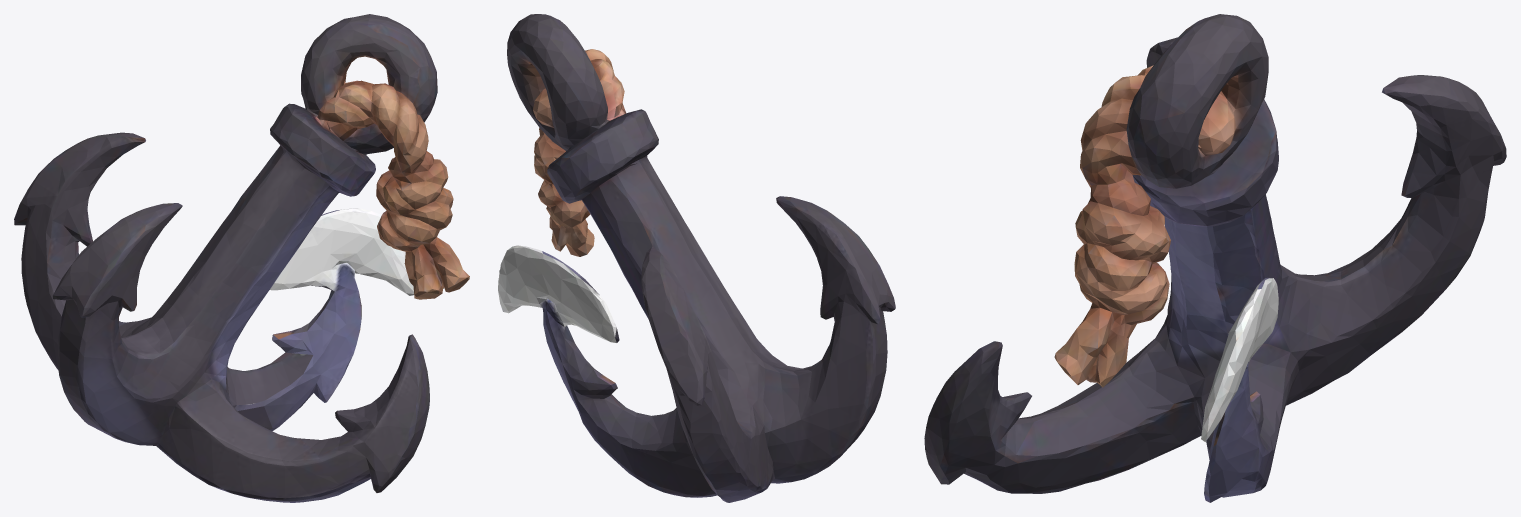
The model's file is grapple_hook.glb.
The picture shows the model from 3 angles, left to right: view 1: azimuth 30°, elevation 25°; view 2: azimuth 150°, elevation 25°; view 3: azimuth 270°, elevation 25°; orthographic projection. The views are drawn at different scales.
Parts seen in each view (by area): view 1: tmpq7h9inan.ply; view 2: tmpq7h9inan.ply; view 3: tmpq7h9inan.ply.
Part boxes in pixels (x1,y1,x2,y2): tmpq7h9inan.ply: [14, 14, 469, 502]; tmpq7h9inan.ply: [498, 14, 895, 502]; tmpq7h9inan.ply: [924, 14, 1506, 502].
Size of the model in its own units: 1.85 by 2 by 1.88.
1 material, 1 textured.
